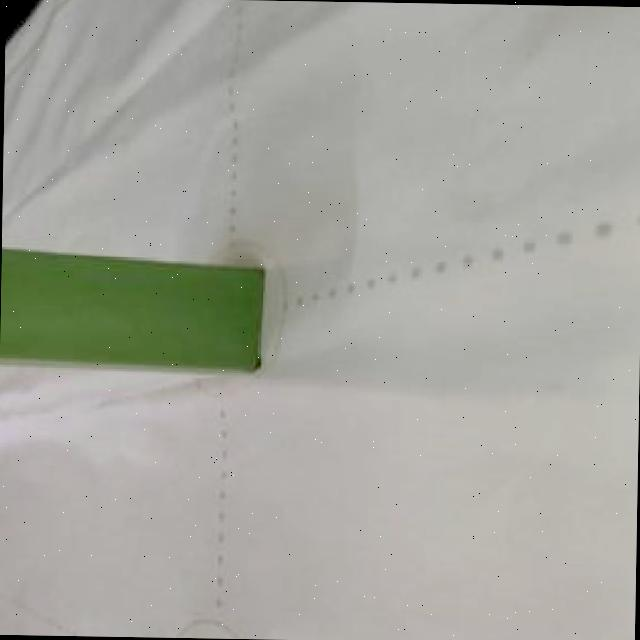greenbox: (0, 241, 263, 370)
